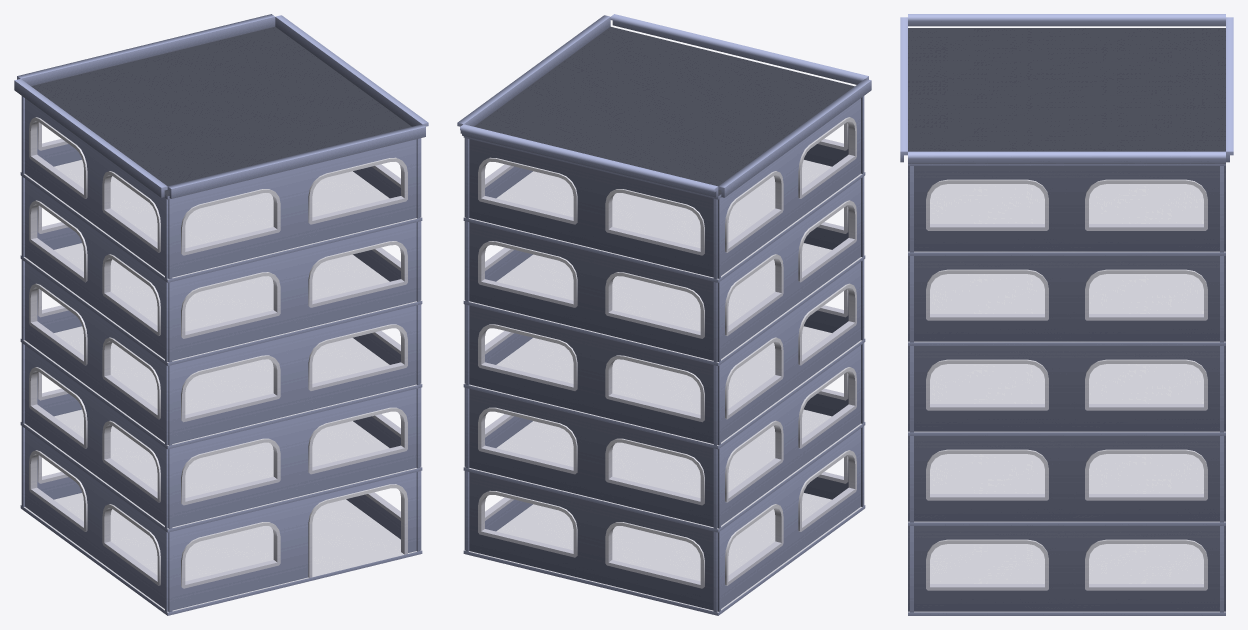
Rendered from scenery_building_1.glb.
The picture shows the model from 3 angles, left to right: view 1: azimuth 30°, elevation 25°; view 2: azimuth 150°, elevation 25°; view 3: azimuth 270°, elevation 25°; orthographic projection. The views are drawn at different scales.
Visible parts, largest first — view 1: scenery_building_1; view 2: scenery_building_1; view 3: scenery_building_1.
Part boxes in pixels (x1=…): scenery_building_1: x1=14, y1=14, x2=428, y2=615; scenery_building_1: x1=457, y1=14, x2=871, y2=615; scenery_building_1: x1=900, y1=14, x2=1233, y2=615.
Size of the model in its own units: 14.33 by 22 by 14.33.
5 materials, 5 textured.
